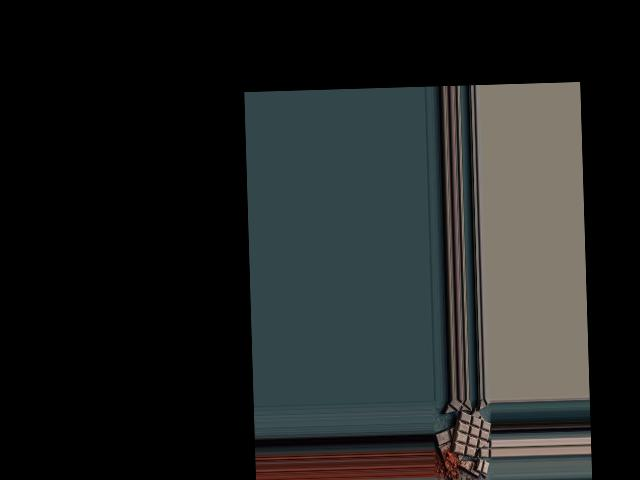chocolate: (451, 409, 491, 457)
